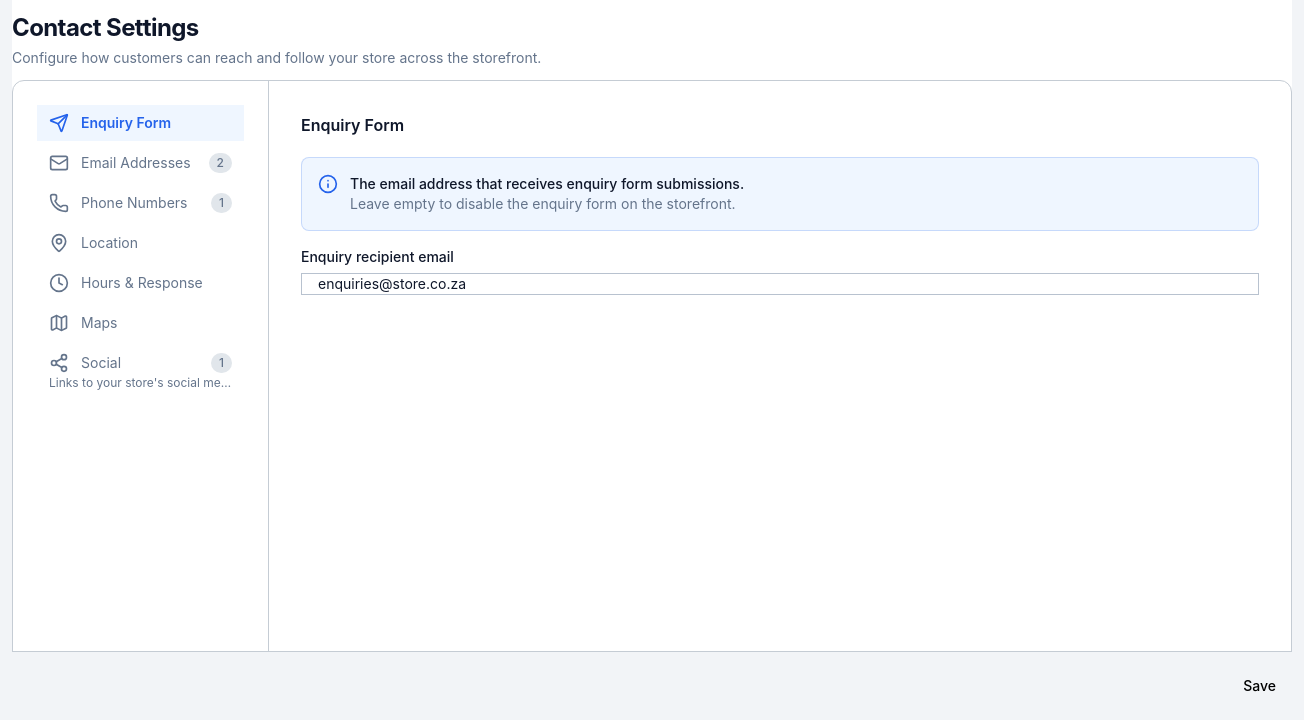
Test: ContactEditorPage › editor loads existing values once each section is selected › shows Phone Numbers fields, including Landline above the table, once that section is selected
Check: the field showing "enquiries@store.co.za" is shown, box x1=301 y1=273 x2=1259 y2=295
Step 1. Click the tab "Phone Numbers 1" → (140, 203), box x1=37 y1=185 x2=244 y2=221
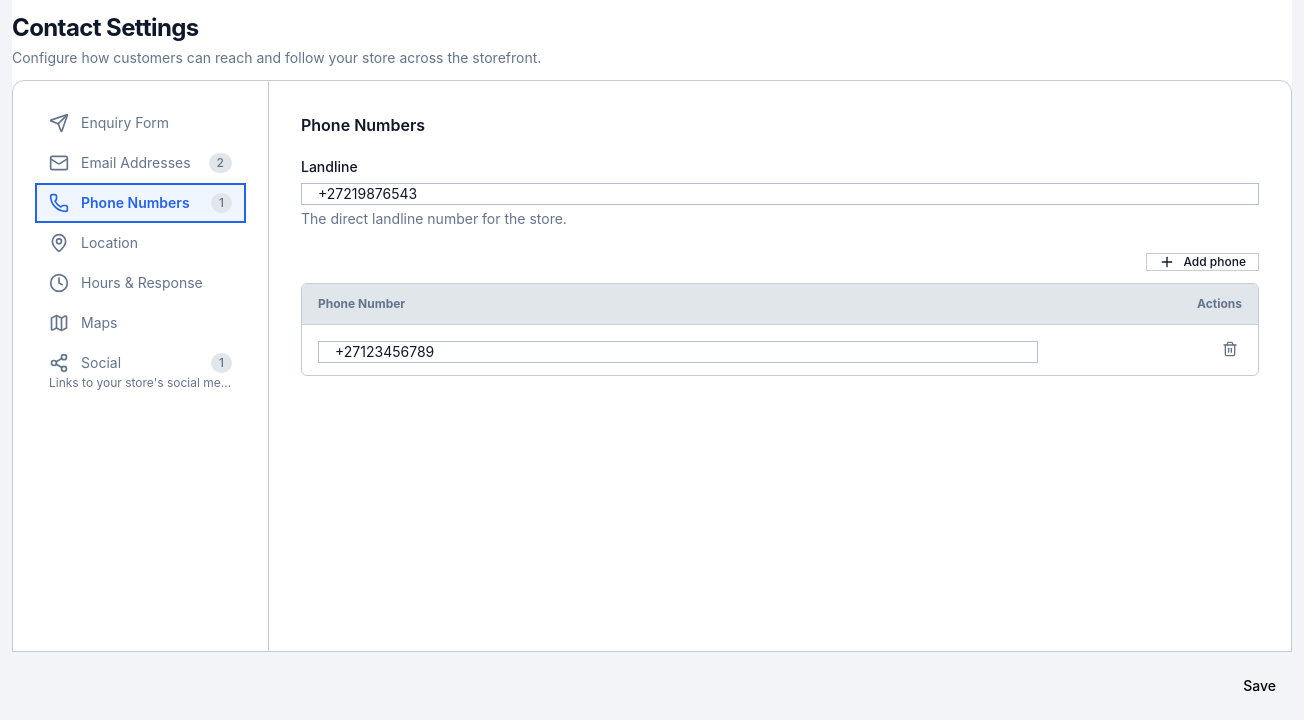
Check: the field showing "+27123456789" is shown, box x1=318 y1=341 x2=1038 y2=363
Check: the field showing "+27219876543" is shown, box x1=301 y1=183 x2=1259 y2=205
